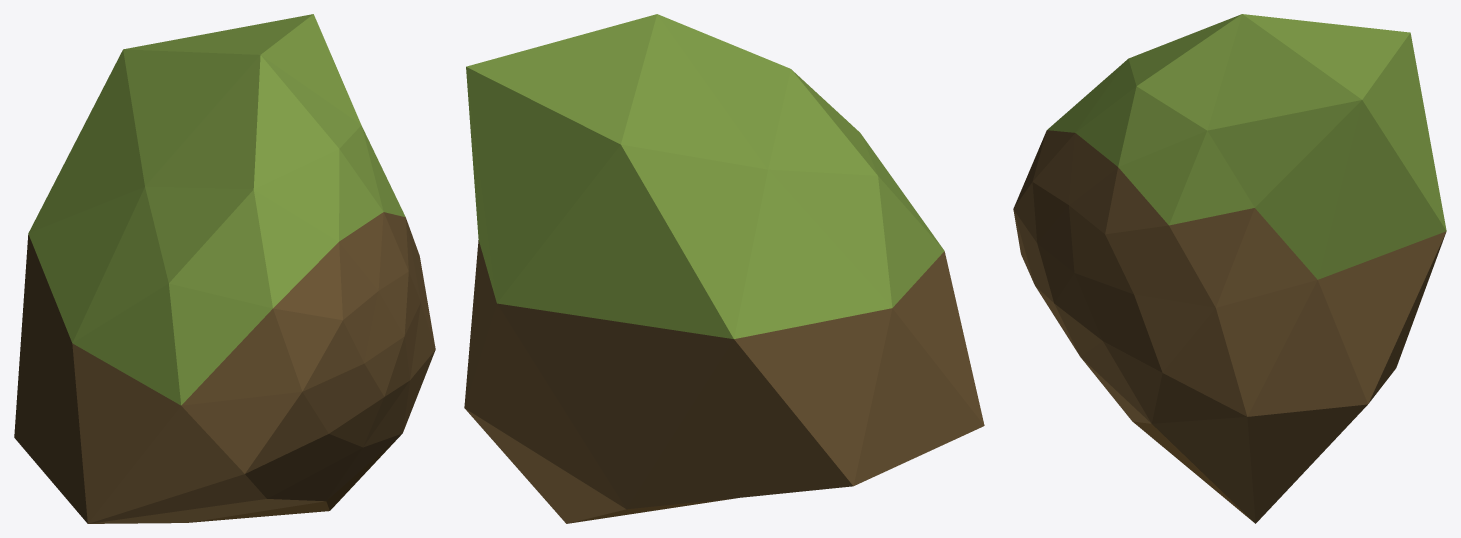
The model's file is rock3.glb.
The picture shows the model from 3 angles, left to right: view 1: azimuth 30°, elevation 25°; view 2: azimuth 150°, elevation 25°; view 3: azimuth 270°, elevation 25°; orthographic projection. The views are drawn at different scales.
Visible parts, largest first — view 1: Icosphere.011; view 2: Icosphere.011; view 3: Icosphere.011.
Part boxes in pixels (bbox=[...]): Icosphere.011: bbox=[14, 14, 435, 523]; Icosphere.011: bbox=[464, 14, 984, 523]; Icosphere.011: bbox=[1013, 14, 1446, 523].
Size of the model in its own units: 4.34 by 5.09 by 4.23.
